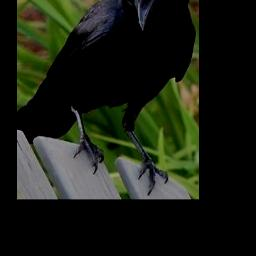Crow: (18, 0, 196, 196)
